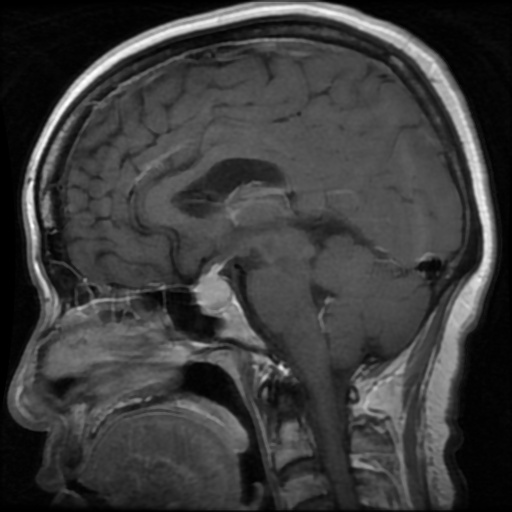pituitary: (194, 264, 230, 307)
